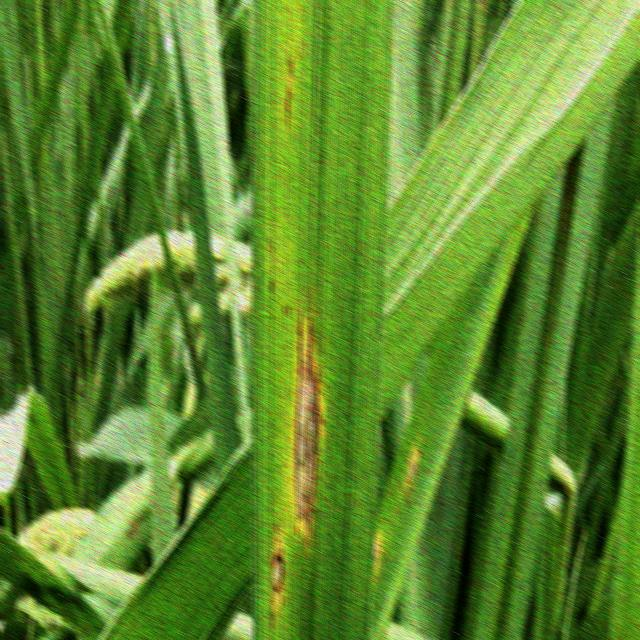LEAF BLAST: (291, 312, 326, 549), (270, 522, 284, 629)
